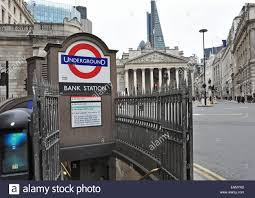London Underground: (61, 44, 108, 78)
